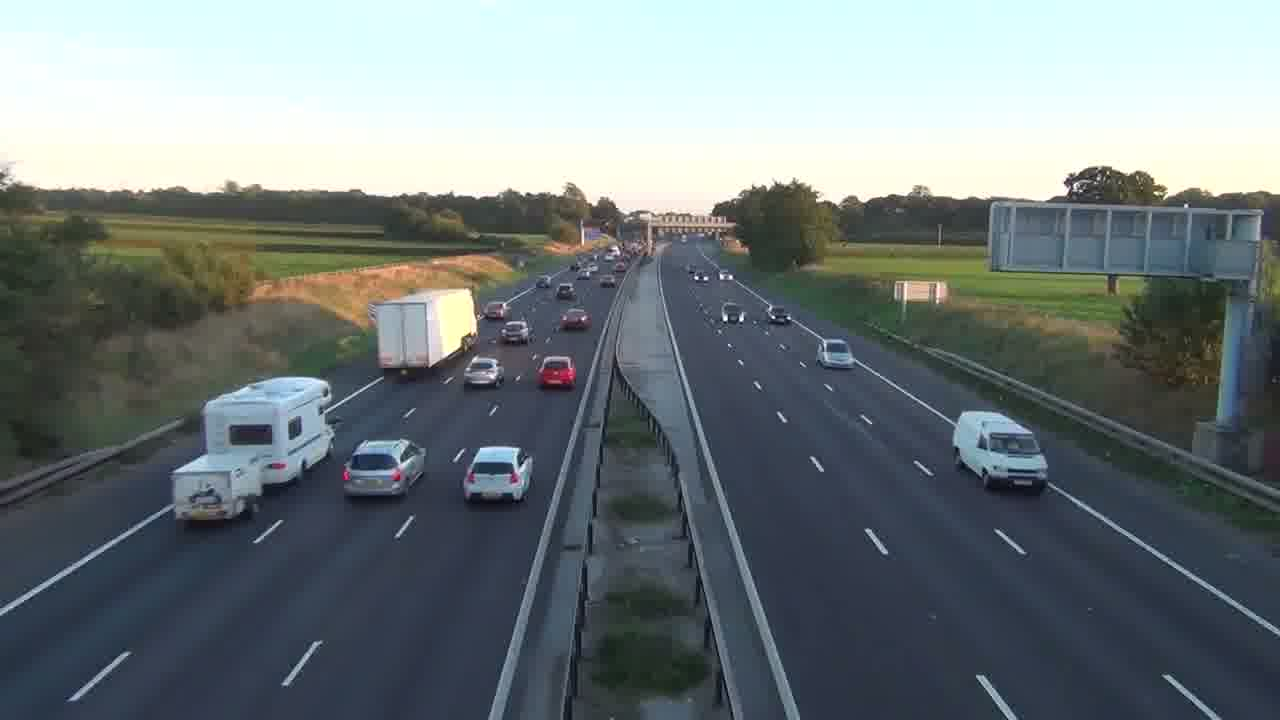car: (341, 438, 427, 499), (462, 446, 534, 503), (536, 354, 577, 389), (464, 356, 504, 389), (498, 319, 530, 345), (559, 308, 591, 331)
truck: (202, 374, 337, 487), (368, 287, 479, 377), (952, 409, 1048, 493), (170, 452, 264, 525)
